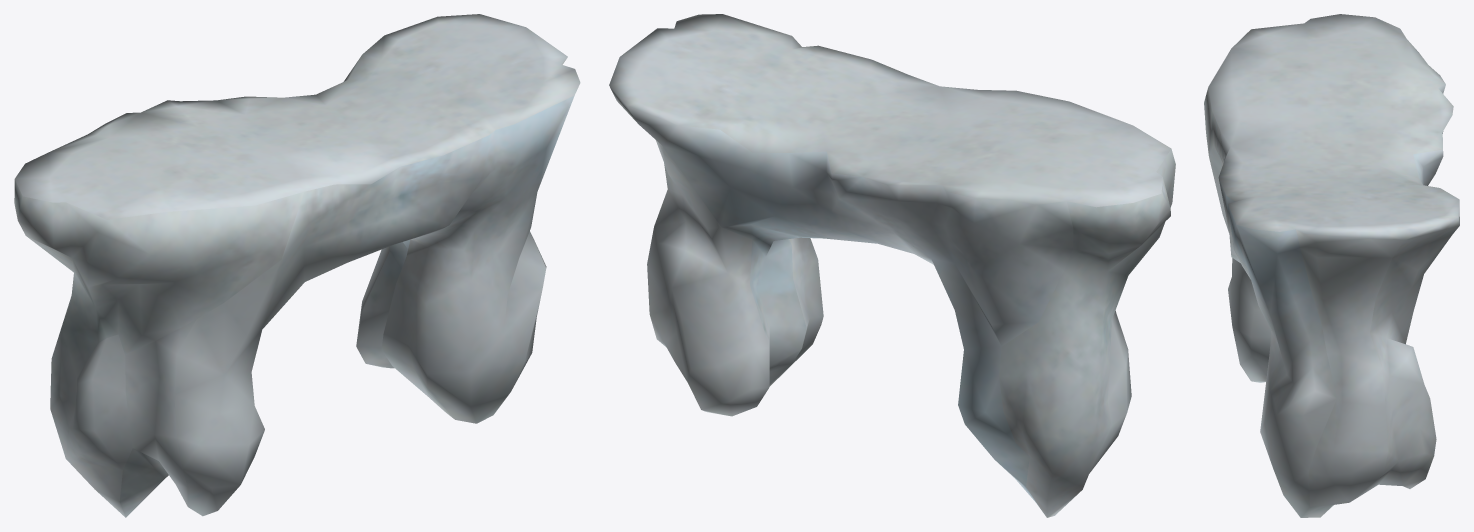
Rendered from P_CliffClassic6.obj.
3 views of the same model, side by side, from view 1: azimuth 30°, elevation 25°; view 2: azimuth 150°, elevation 25°; view 3: azimuth 270°, elevation 25° (orthographic). The views are drawn at different scales.
Bounding box in the file's own units: 112 × 75.58 × 49.51.
